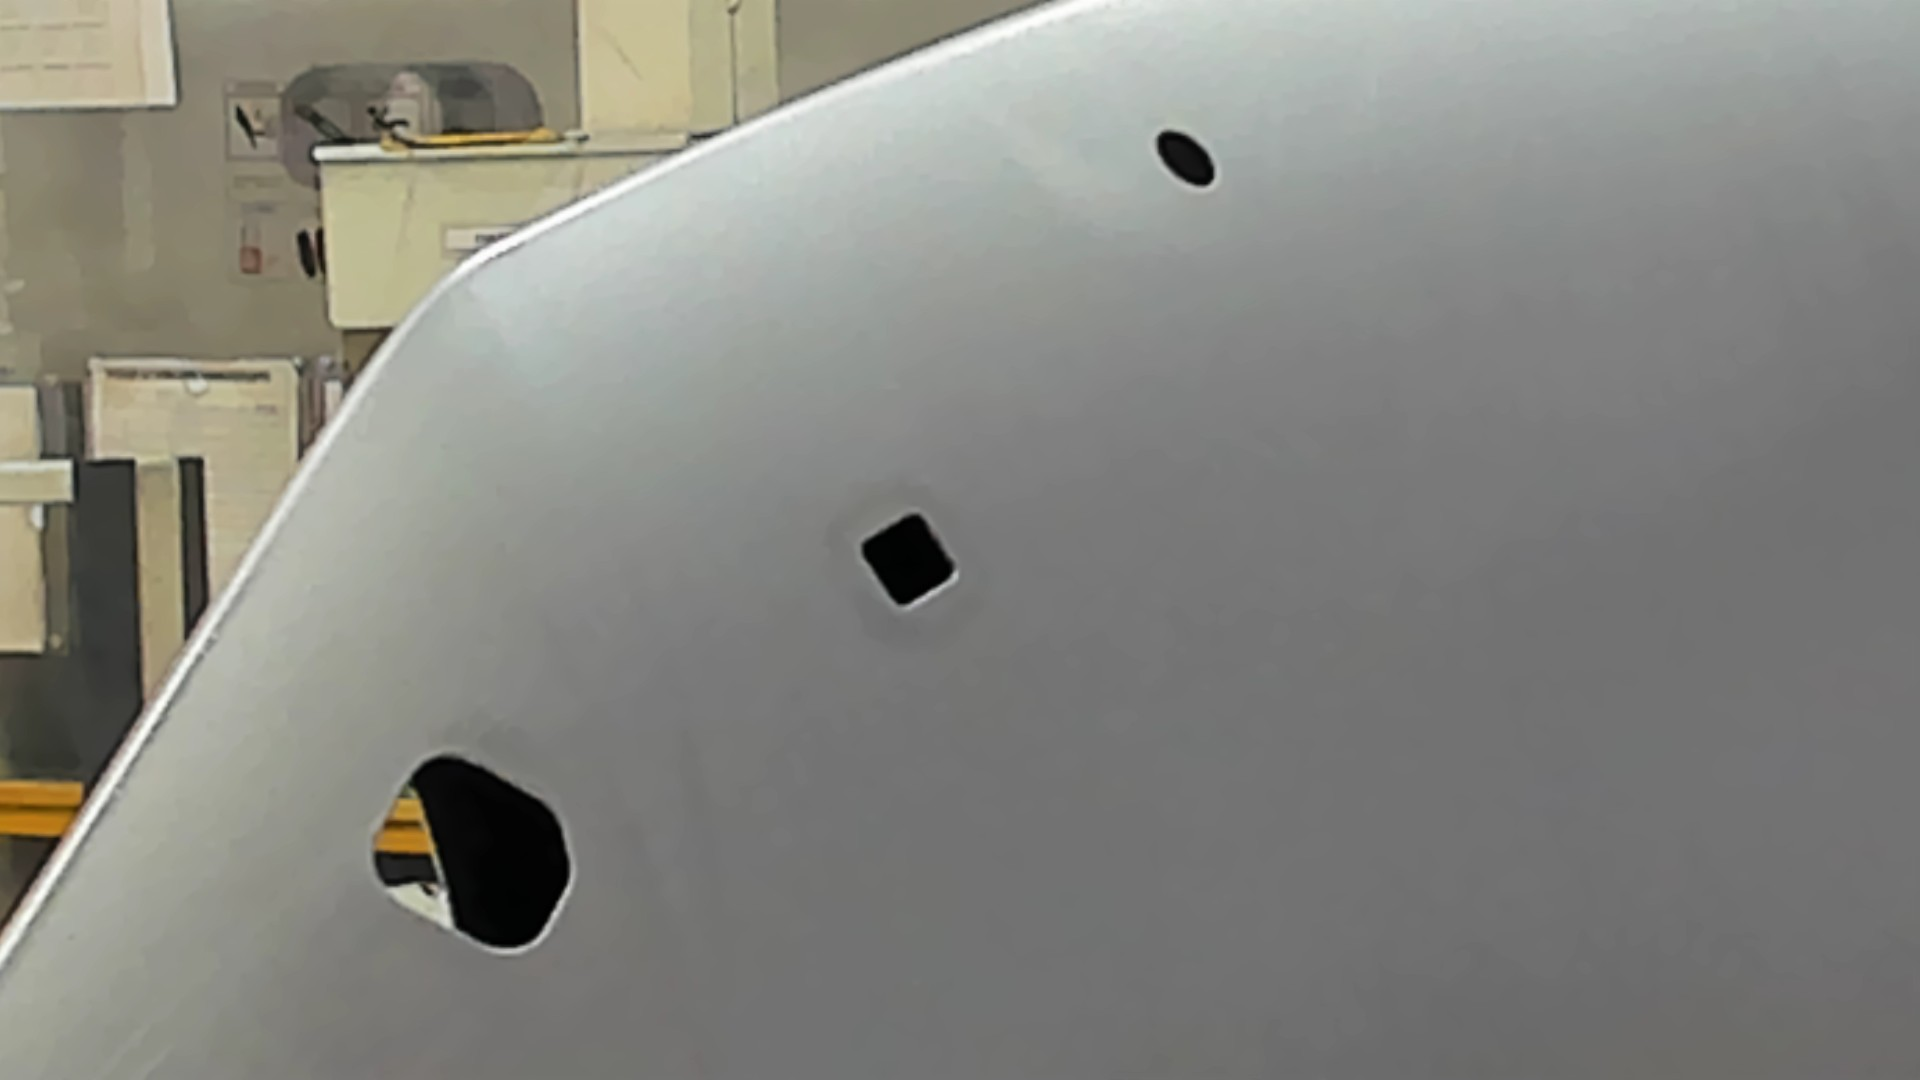Agujero: (858, 510, 963, 611), (1153, 127, 1218, 187)
Agujerote: (367, 752, 576, 952)
